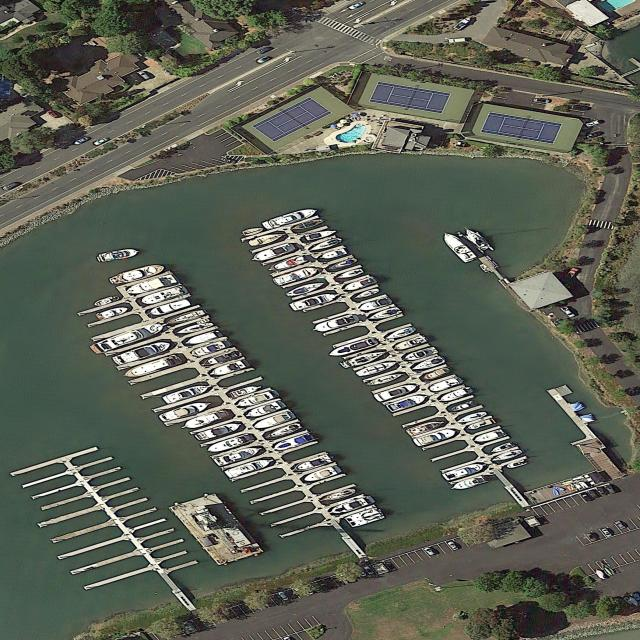ship: (166, 491, 267, 567), (88, 320, 170, 355), (120, 354, 183, 381), (111, 340, 174, 366), (260, 207, 320, 231), (107, 263, 169, 286), (437, 230, 478, 263), (157, 400, 215, 423), (123, 274, 178, 297), (223, 456, 277, 479), (326, 337, 380, 359), (161, 383, 215, 405), (212, 445, 266, 467), (178, 409, 231, 431), (271, 265, 321, 287), (289, 291, 341, 312), (139, 285, 190, 306), (193, 421, 244, 442), (206, 433, 256, 454), (249, 242, 296, 264), (329, 494, 376, 516), (311, 313, 359, 334), (233, 389, 281, 410), (373, 382, 420, 403), (345, 348, 391, 369), (270, 432, 316, 453), (442, 461, 489, 481), (412, 427, 459, 447), (343, 507, 385, 529), (385, 393, 431, 413), (147, 298, 193, 318), (251, 411, 296, 431), (288, 454, 333, 474), (244, 400, 287, 420), (284, 280, 329, 299), (267, 254, 309, 274), (355, 359, 399, 378), (164, 308, 208, 327), (460, 226, 492, 252), (189, 339, 232, 358), (200, 349, 243, 368), (301, 465, 343, 484), (207, 359, 251, 377), (405, 419, 447, 437), (96, 247, 141, 263), (366, 371, 406, 389), (263, 422, 303, 440), (408, 355, 447, 373), (248, 231, 289, 248), (437, 386, 475, 404), (175, 320, 215, 337), (318, 487, 358, 504), (448, 475, 487, 492), (426, 376, 465, 393), (366, 306, 403, 323), (184, 330, 223, 346), (357, 296, 393, 313), (306, 237, 344, 253), (382, 326, 419, 342), (341, 276, 378, 292), (392, 335, 427, 351), (403, 346, 438, 362), (95, 305, 130, 321), (229, 383, 266, 398), (304, 227, 339, 242), (489, 448, 524, 463), (289, 218, 326, 232), (455, 411, 489, 426), (473, 429, 506, 444), (422, 367, 452, 382), (327, 257, 359, 271), (335, 267, 365, 281), (448, 400, 478, 413), (319, 248, 348, 261), (467, 418, 496, 431), (91, 295, 120, 307), (450, 17, 474, 31), (353, 288, 381, 300), (489, 442, 514, 454), (242, 226, 266, 237), (505, 460, 527, 469), (477, 263, 494, 273), (627, 595, 639, 607), (552, 486, 566, 492), (552, 488, 559, 496)
small-vehicle: (559, 306, 577, 318), (92, 136, 111, 147), (564, 267, 580, 280), (585, 129, 605, 139), (73, 135, 91, 145), (348, 1, 366, 11), (571, 104, 592, 112), (301, 585, 316, 596), (580, 492, 594, 503), (587, 489, 601, 500), (603, 484, 617, 495), (256, 55, 273, 64), (422, 546, 436, 556), (446, 541, 460, 551), (277, 591, 291, 601), (585, 120, 602, 128), (45, 110, 60, 119), (362, 565, 374, 576), (586, 533, 599, 543), (614, 520, 627, 530), (138, 70, 151, 80), (594, 487, 608, 496), (257, 47, 272, 55), (601, 528, 613, 538), (595, 487, 608, 496), (448, 37, 466, 43), (534, 98, 551, 104)
